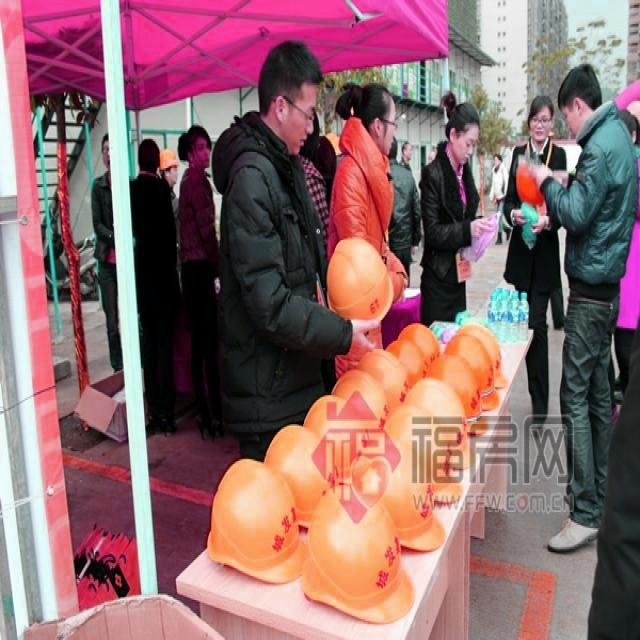Con_Casco: (327, 236, 393, 328)
Sin_Casco_Mascarrilla: (259, 42, 322, 150), (354, 78, 397, 156), (447, 102, 481, 161), (178, 125, 214, 169), (528, 94, 553, 144), (137, 136, 160, 176)
